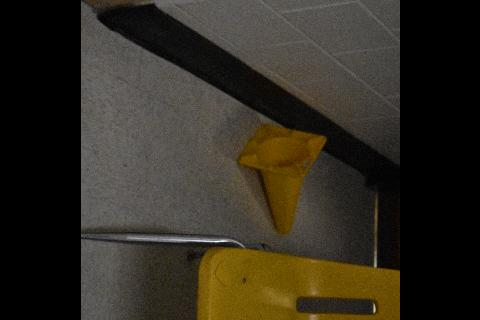cone: (235, 122, 327, 236)
